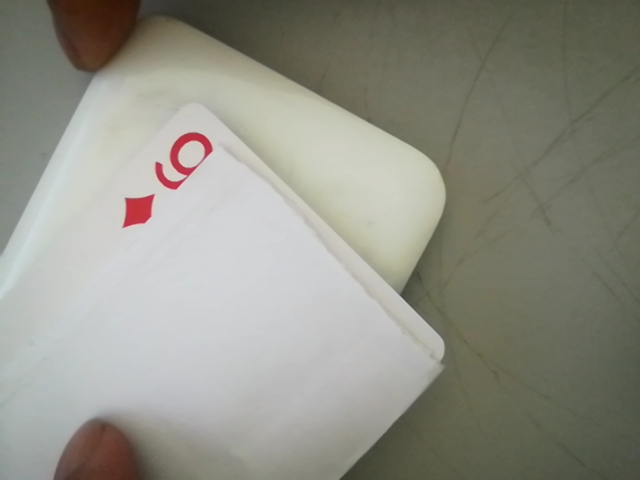fk 9: (112, 121, 228, 229)
